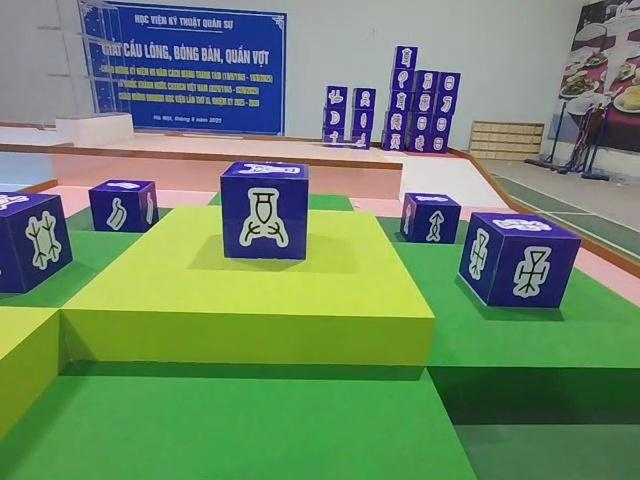R2 Real Blue: (462, 214, 584, 311), (222, 163, 312, 263), (0, 192, 72, 296), (91, 181, 160, 235), (401, 193, 462, 246)
